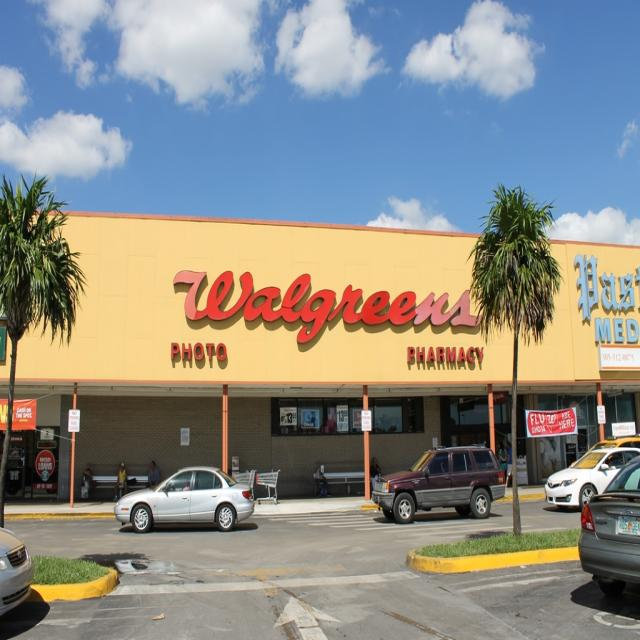car: (372, 443, 505, 525), (115, 466, 253, 533)
